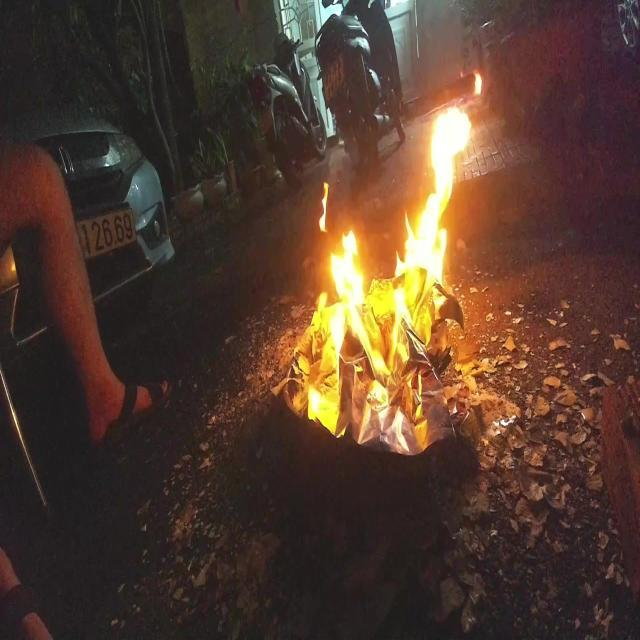Fire: (288, 48, 482, 440)
